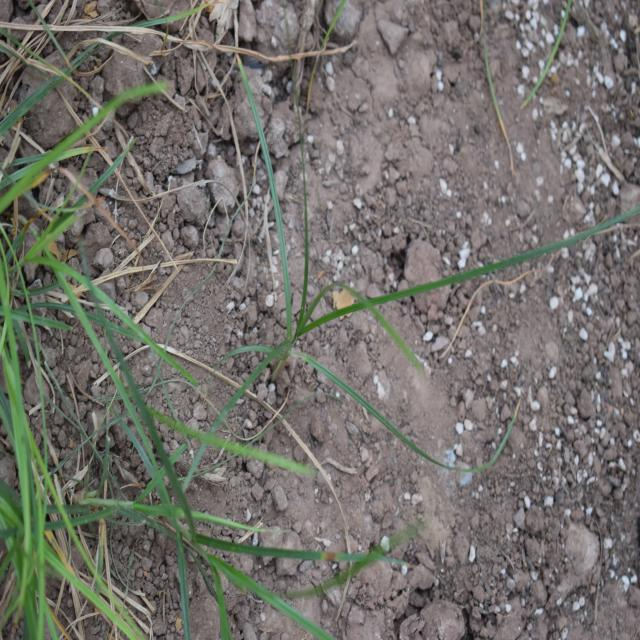sedge: (197, 100, 460, 474)
